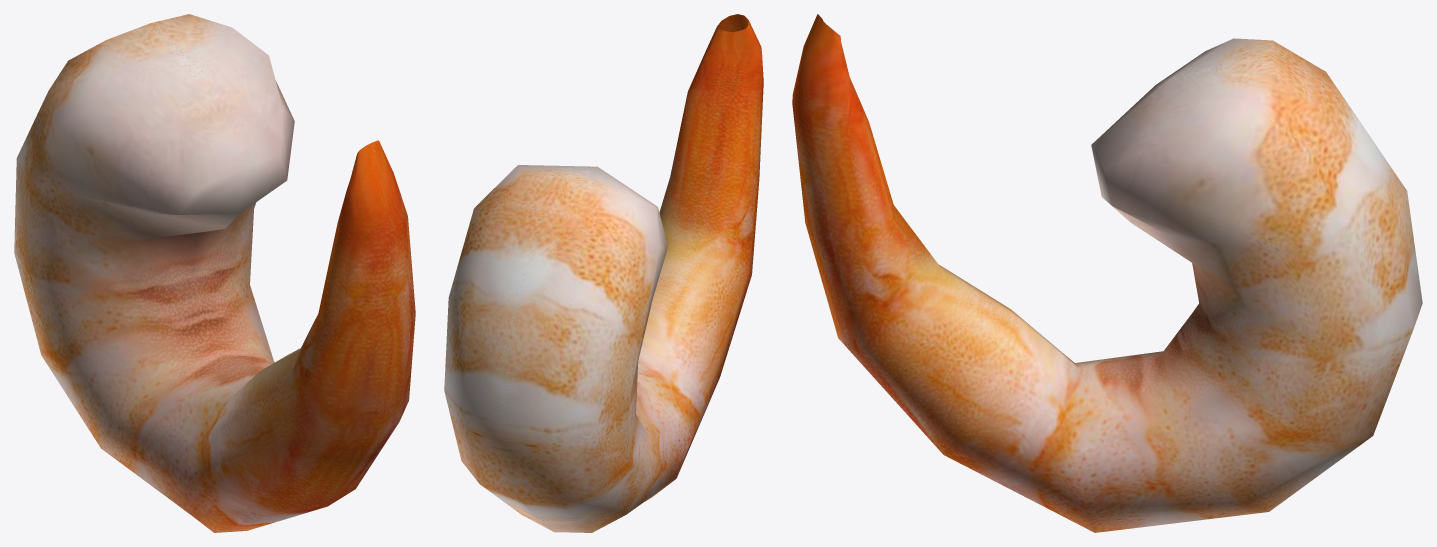
The model's file is camaron.glb.
3 views of the same model, side by side, from view 1: azimuth 30°, elevation 25°; view 2: azimuth 150°, elevation 25°; view 3: azimuth 270°, elevation 25° (orthographic). The views are drawn at different scales.
Parts seen in each view (by area): view 1: Camaron; view 2: Camaron; view 3: Camaron.
Part boxes in pixels (x1,y1,x2,y2): Camaron: (14,14,415,532); Camaron: (444,14,763,532); Camaron: (792,14,1422,532).
Size of the model in its own units: 0.0552 by 0.1171 by 0.132.
Materials: 1 (1 with a texture image).
